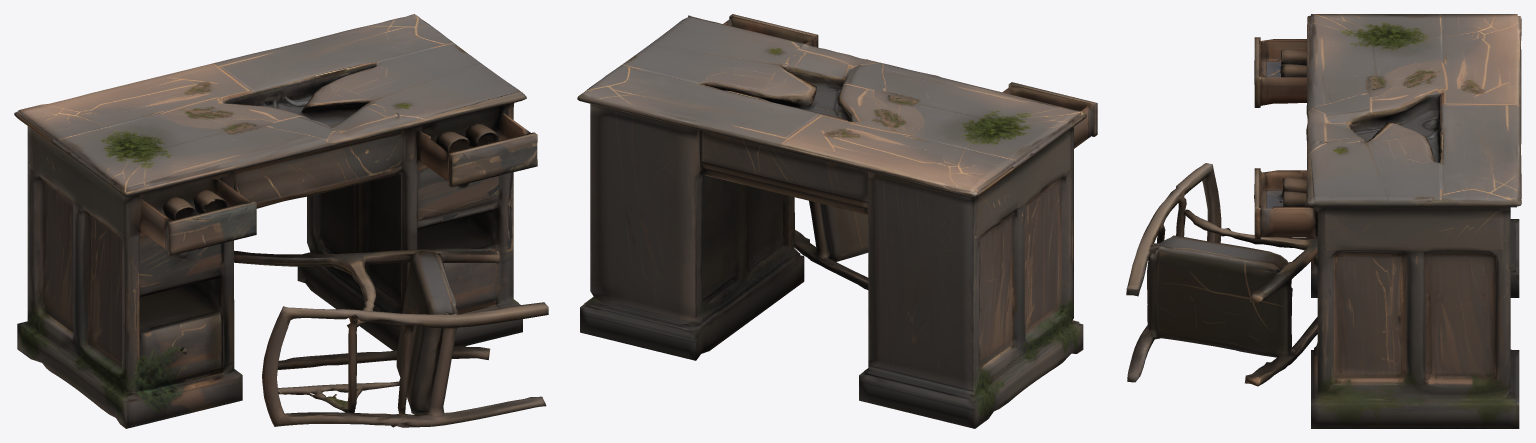
File: base_basic_pbr.fbx
3 renders of one model, left to right at view 1: azimuth 30°, elevation 25°; view 2: azimuth 150°, elevation 25°; view 3: azimuth 270°, elevation 25°, orthographic. The views are drawn at different scales.
Parts seen in each view (by area): view 1: model; view 2: model; view 3: model.
Boxes of the visible parts, left/top/right/bottom form: model: left=14, top=14, right=548, bottom=428; model: left=577, top=14, right=1097, bottom=428; model: left=1126, top=14, right=1521, bottom=428.
Bounding box in the file's own units: 185 × 106 × 164.
1 material, 1 textured.
